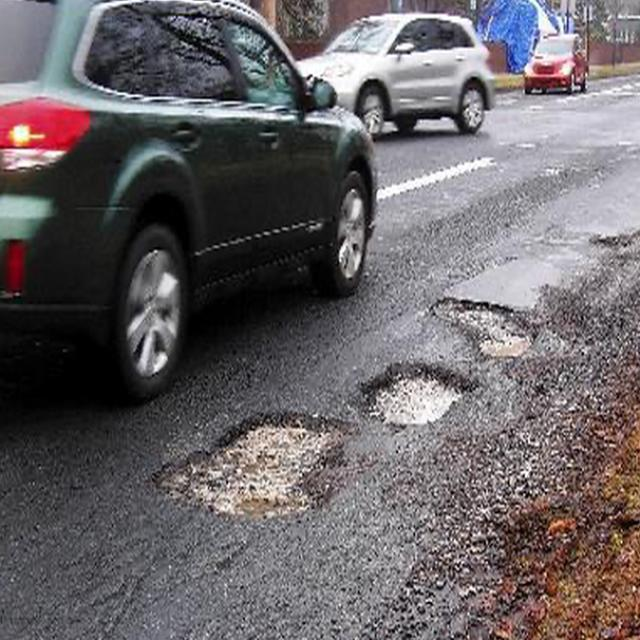Lubang: (172, 416, 354, 516), (366, 365, 482, 428)
